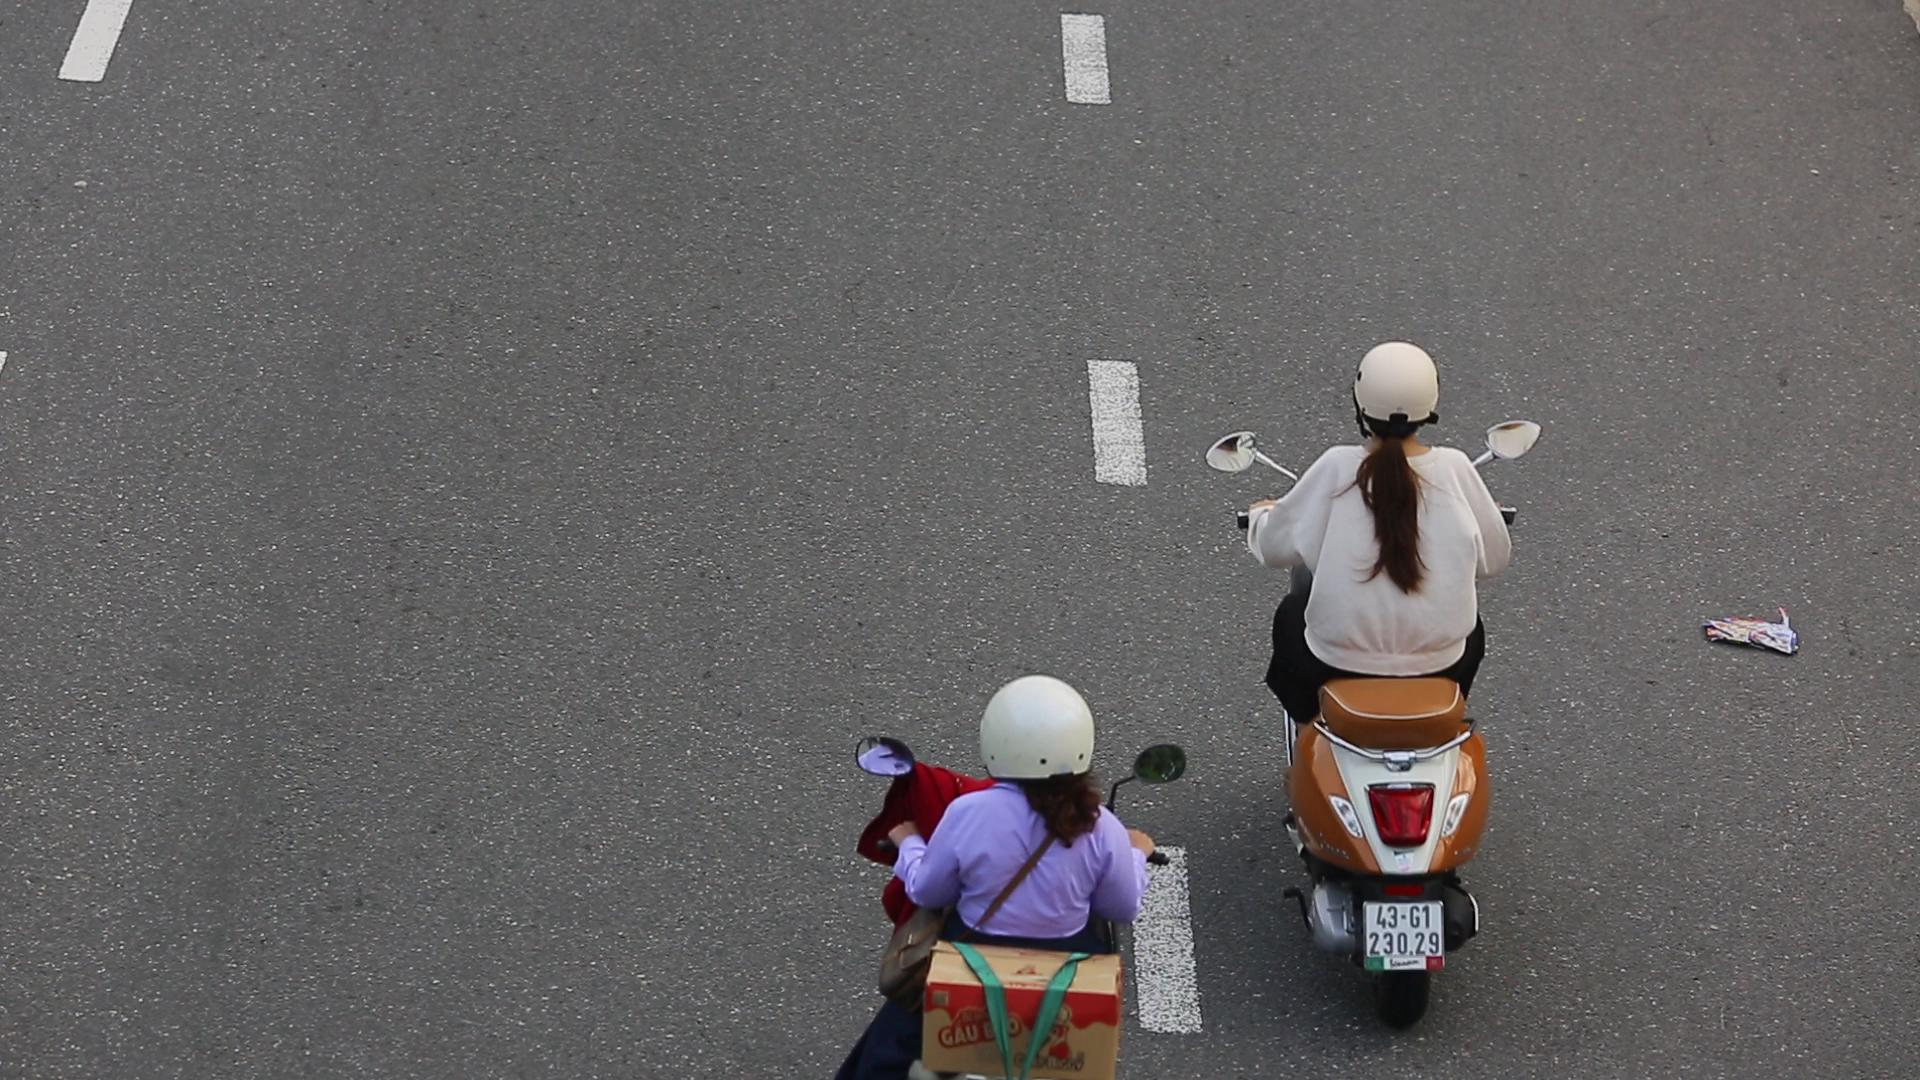motobike: (1205, 332, 1547, 1030)
